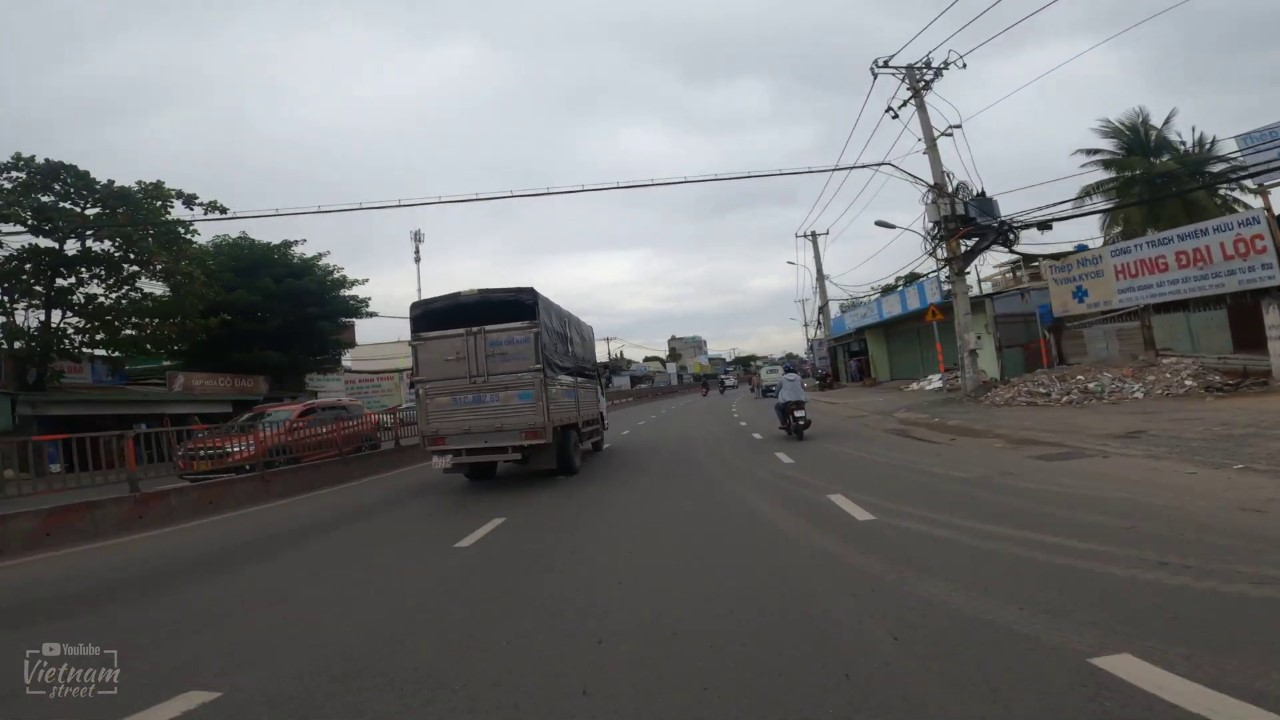giao_khong_uu_tien_phai: (923, 302, 947, 323)
